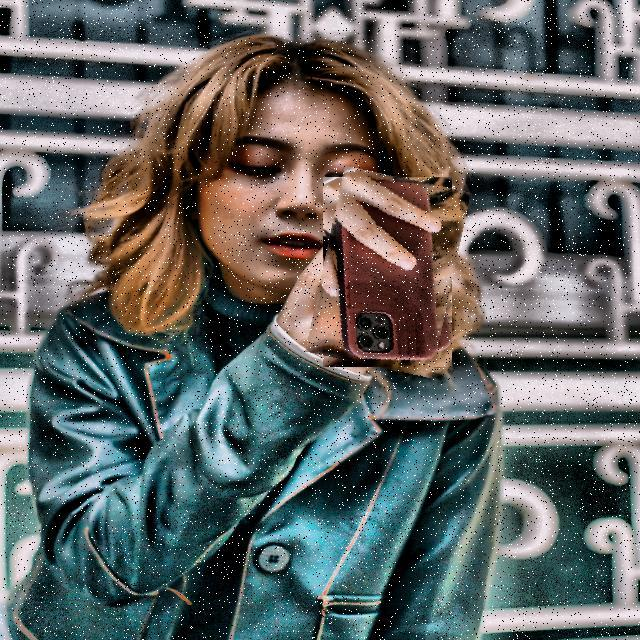Phone: (314, 172, 461, 372)
